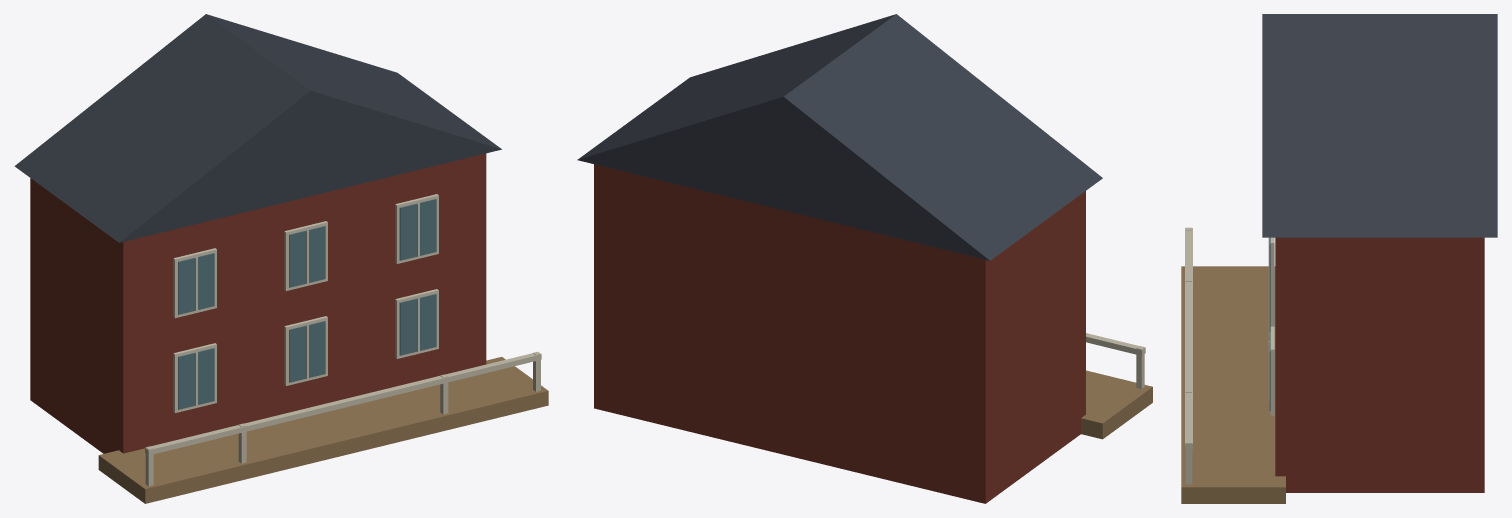
Rendered from garden-fallback.glb.
The picture shows the model from 3 angles, left to right: view 1: azimuth 30°, elevation 25°; view 2: azimuth 150°, elevation 25°; view 3: azimuth 270°, elevation 25°; orthographic projection. The views are drawn at different scales.
Parts seen in each view (by area): view 1: home-house; view 2: home-house; view 3: home-house.
Boxes of the visible parts, box(x1,y1,x2,y2) form: home-house: box(14, 14, 548, 503); home-house: box(577, 14, 1152, 503); home-house: box(1181, 14, 1497, 503).
Size of the model in its own units: 20 by 16 by 12.1.
